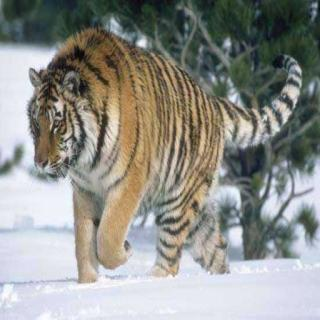Tiger: (20, 19, 307, 285)
